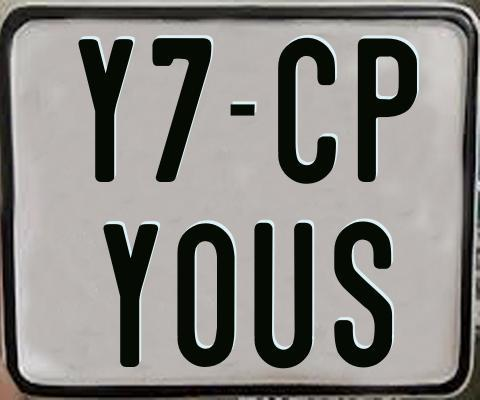0: (177, 223, 241, 371)
7: (149, 38, 208, 183)
C: (276, 38, 334, 184)
P: (356, 38, 421, 184)
S: (332, 218, 390, 365)
U: (254, 222, 312, 369)
Y: (100, 223, 158, 370), (77, 38, 133, 185)
